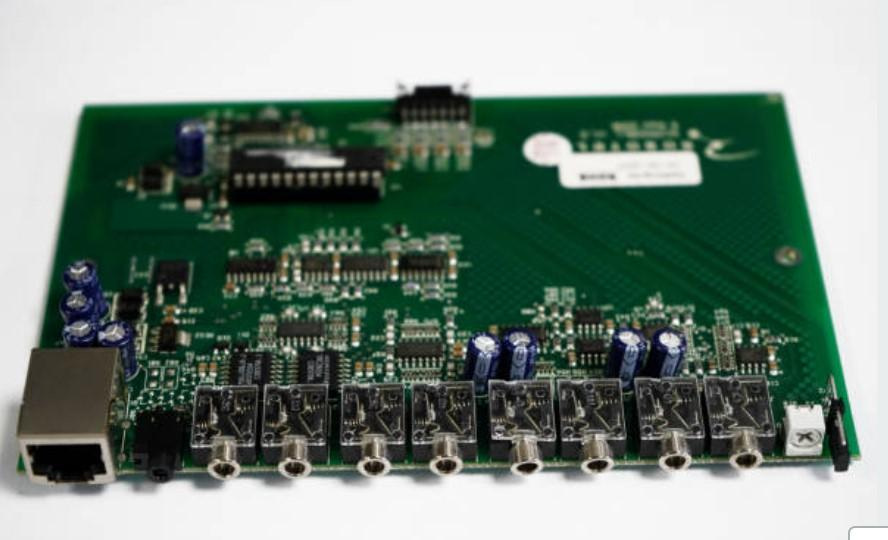Printed Circuit Board PCB: (16, 85, 861, 484)
